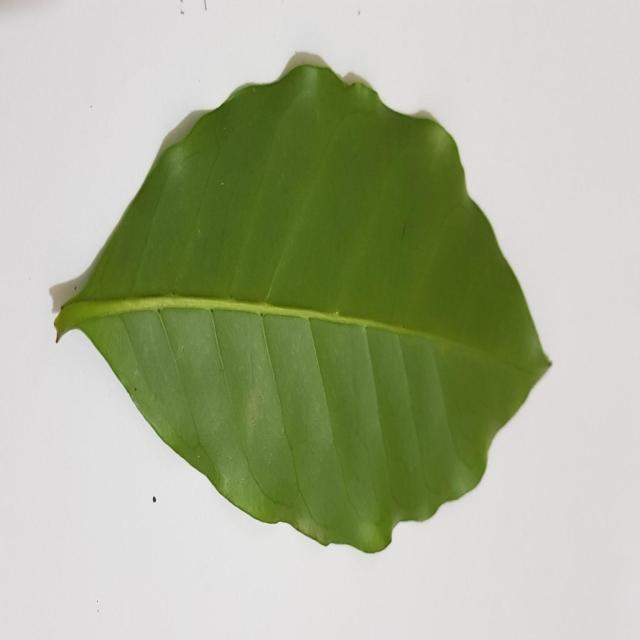Sanas: (48, 53, 552, 556)
